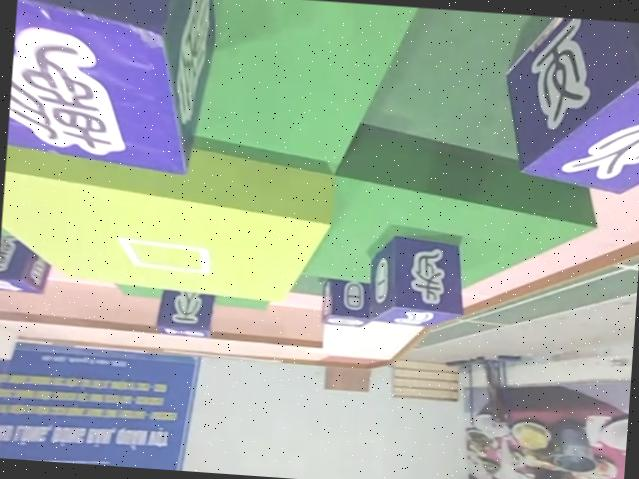R2 Fake Blue: (4, 0, 211, 179), (499, 12, 639, 196), (366, 232, 470, 329), (156, 287, 218, 339), (0, 233, 51, 293), (321, 273, 376, 325)
